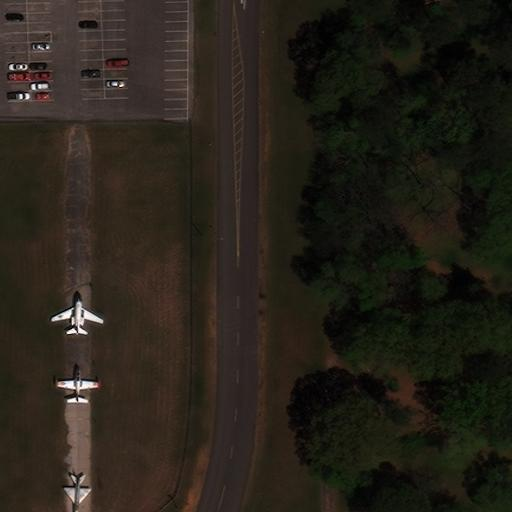Military Fighter: (62, 474, 91, 511)
Military Trainer: (51, 294, 103, 335), (56, 365, 98, 404)
